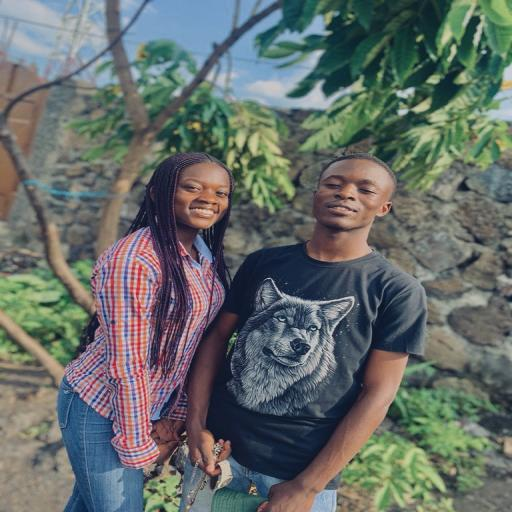LAURENE: (145, 142, 238, 250)
